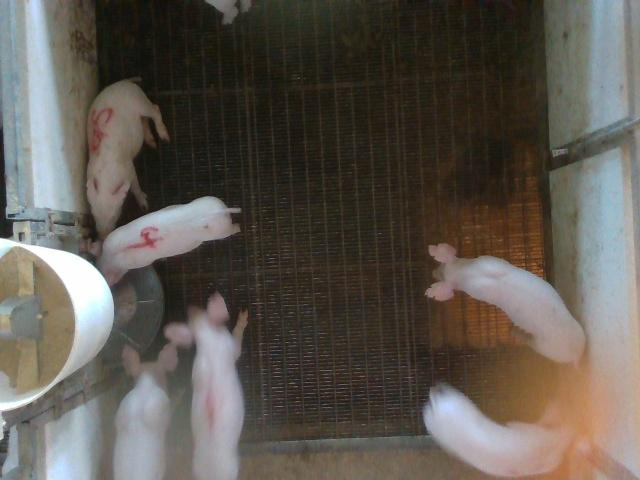pig-1: (165, 292, 248, 478)
pig-4: (98, 196, 240, 284)
pig-5: (88, 79, 169, 241)
